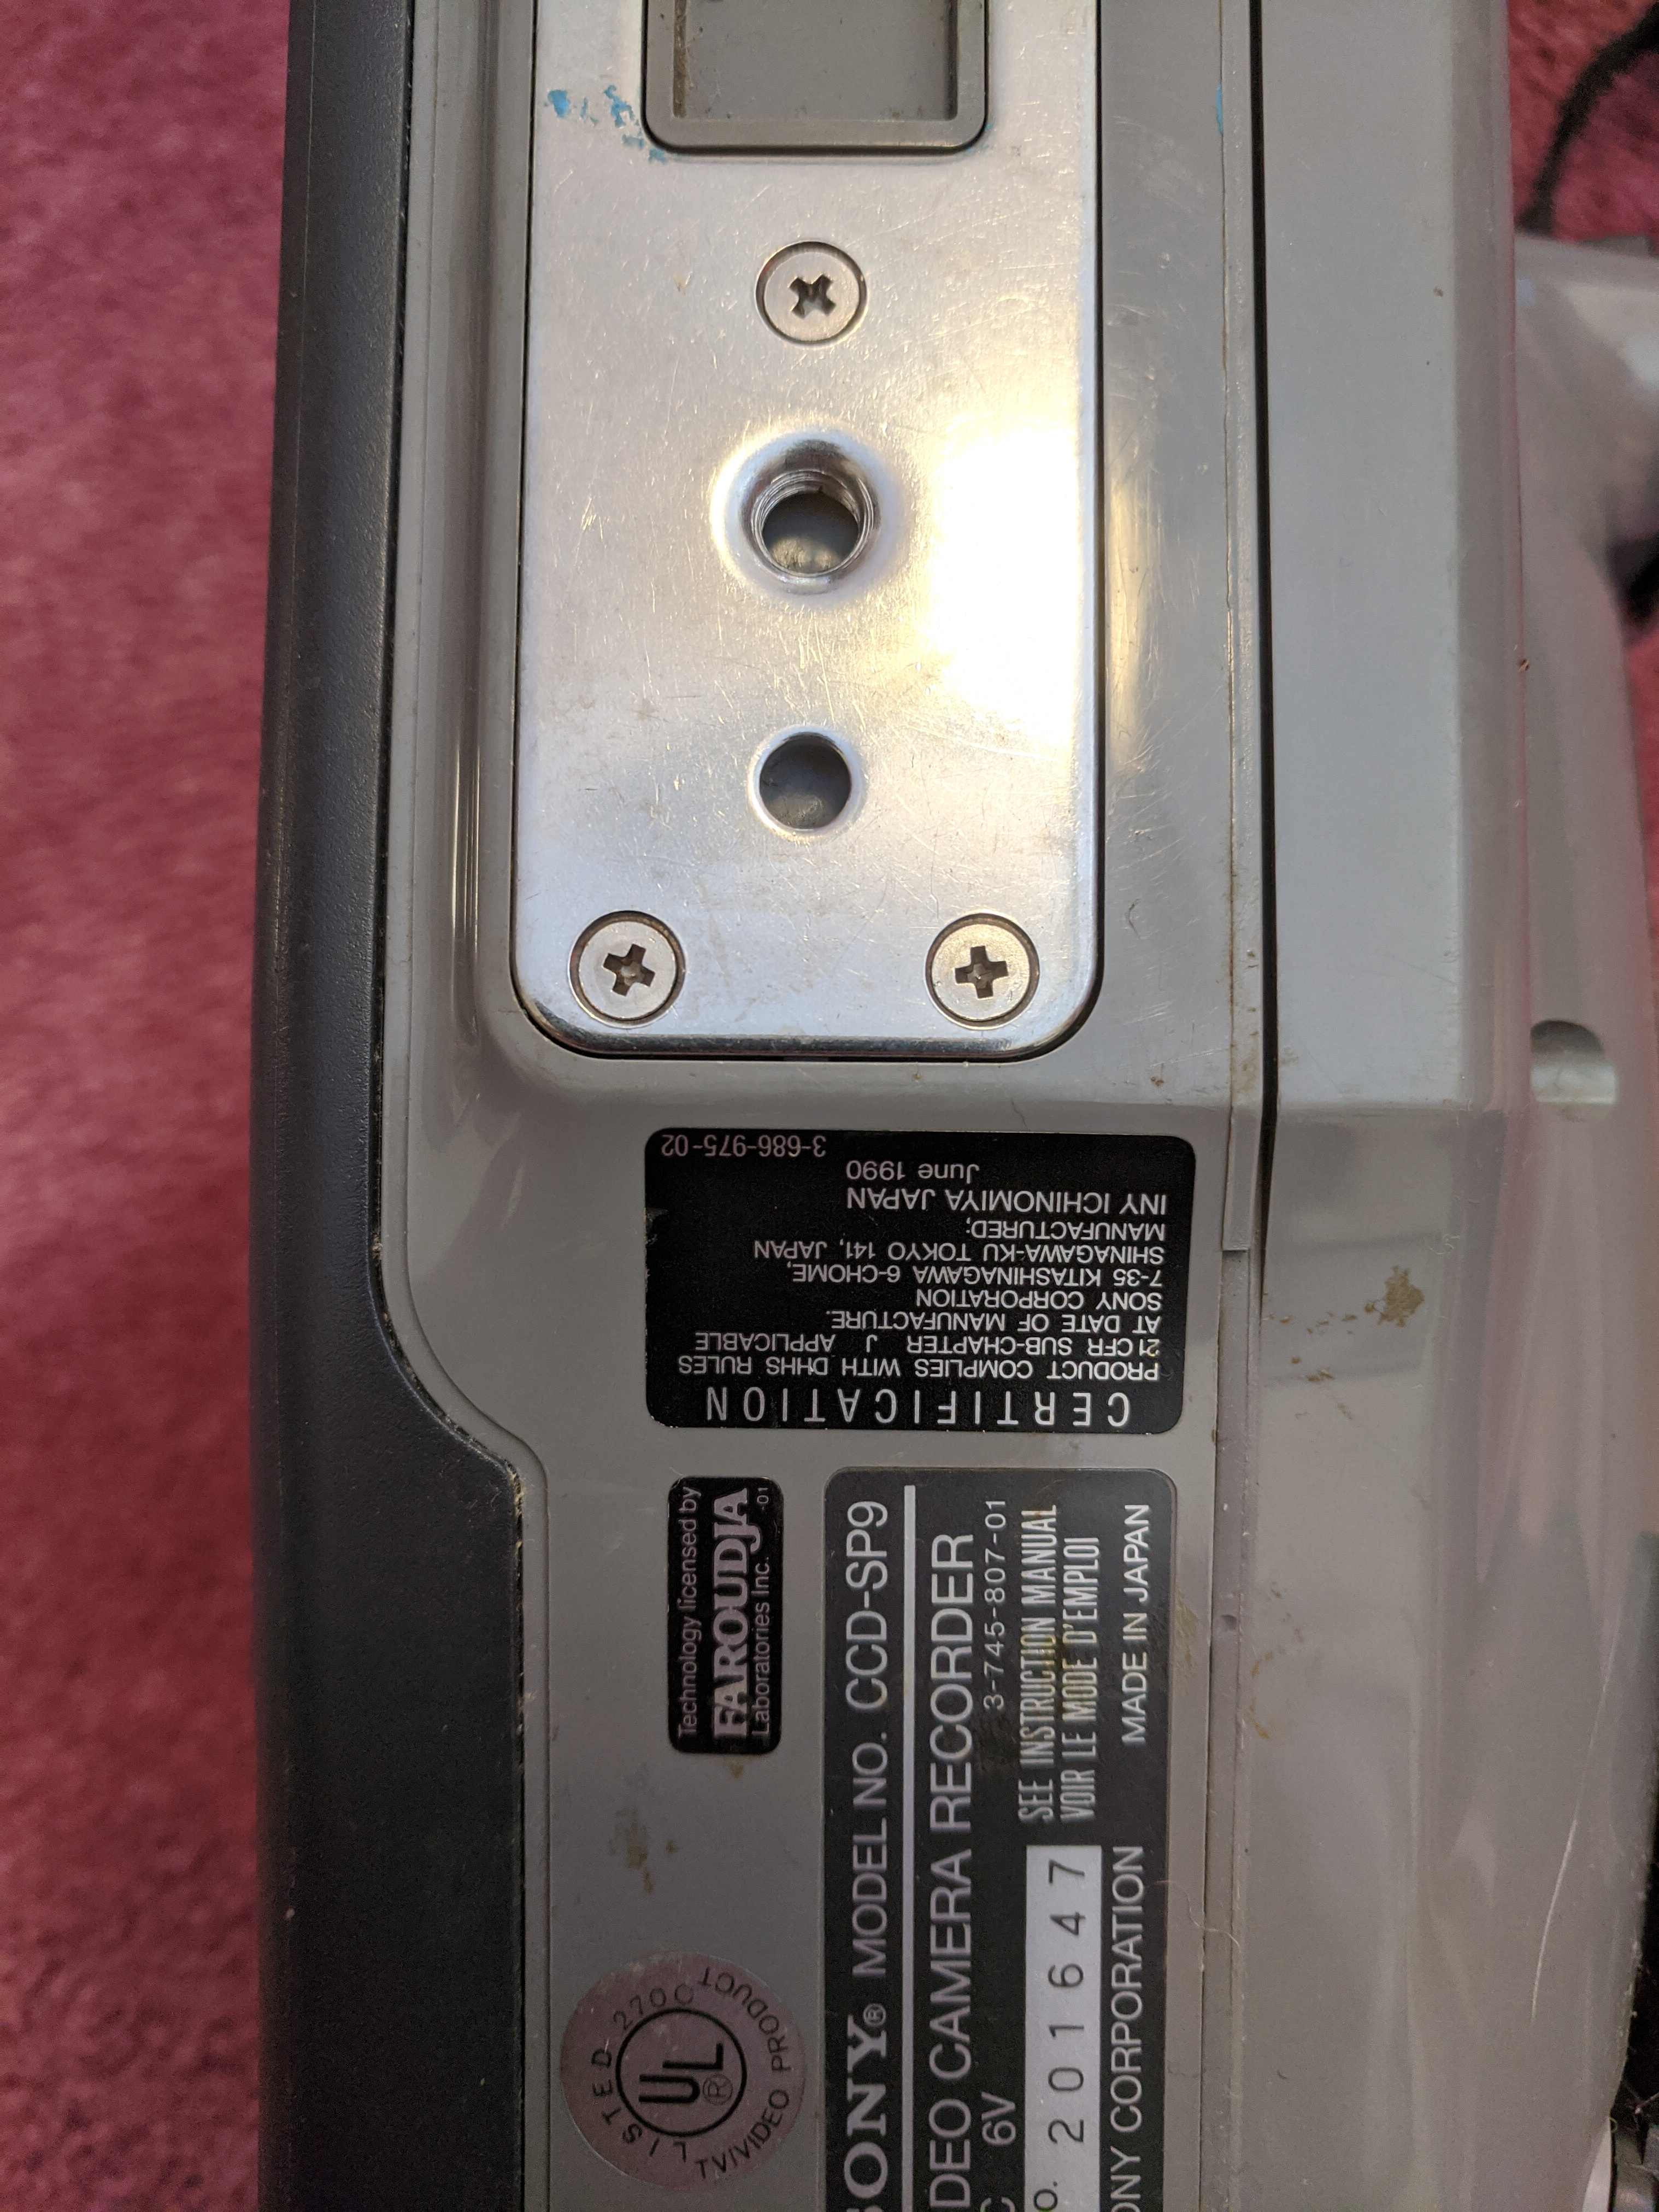cross_recessed_screw: (979, 1364, 1114, 1507), (826, 488, 962, 618), (751, 728, 889, 853), (864, 1864, 990, 1966)
